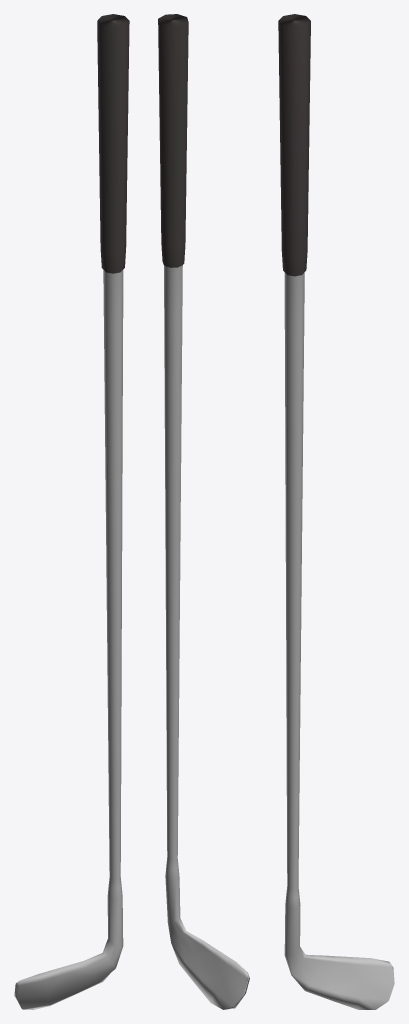
3 views of the same model, side by side, from view 1: azimuth 90°, elevation 25°; view 2: azimuth 210°, elevation 25°; view 3: azimuth 270°, elevation 25° (orthographic). The views are drawn at different scales.
Visible parts, largest first — view 1: GoodFishingRod; view 2: GoodFishingRod; view 3: GoodFishingRod.
Boxes of the visible parts, x1,y1,x2,y2 form: GoodFishingRod: [14, 14, 129, 1009]; GoodFishingRod: [158, 14, 249, 1009]; GoodFishingRod: [278, 14, 394, 1009].
Size of the model in its own units: 0.00367 by 0.0785 by 0.00832.
Materials: 1 (1 with a texture image).
